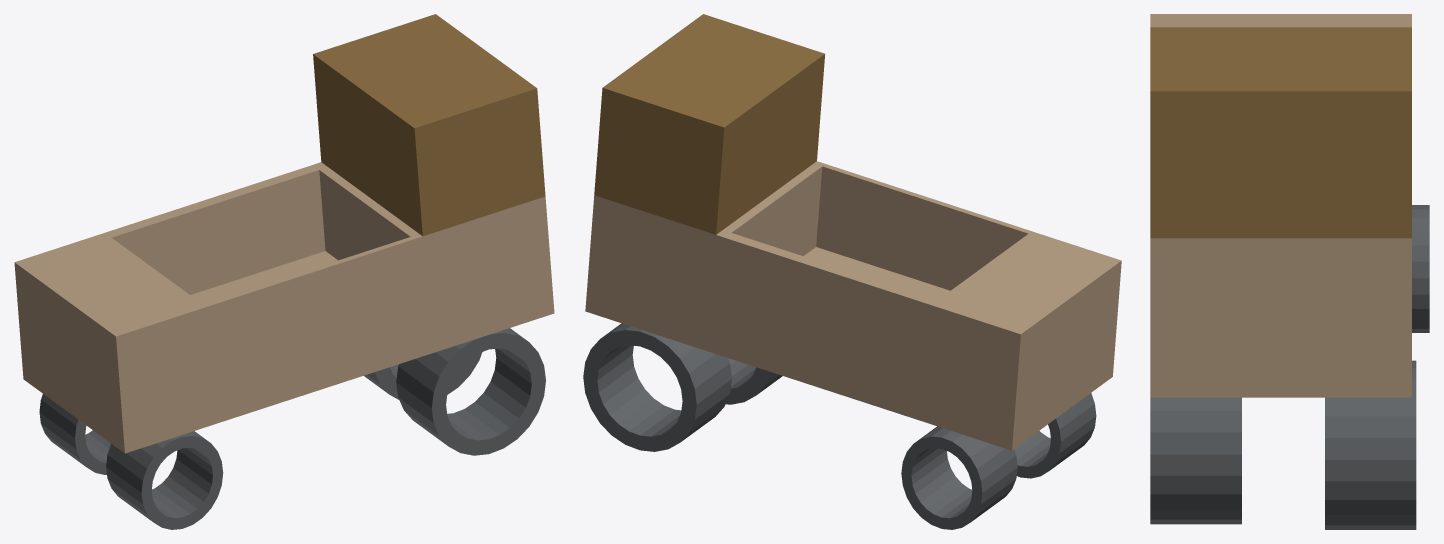
Rendered from Better Starters.glb.
3 renders of one model, left to right at view 1: azimuth 30°, elevation 25°; view 2: azimuth 150°, elevation 25°; view 3: azimuth 270°, elevation 25°, orthographic. The views are drawn at different scales.
Parts seen in each view (by area): view 1: Mesh_Mesh_head_geo.001_lambert2SG.001; view 2: Mesh_Mesh_head_geo.001_lambert2SG.001; view 3: Mesh_Mesh_head_geo.001_lambert2SG.001.
Boxes of the visible parts, left/top/right/bottom form: Mesh_Mesh_head_geo.001_lambert2SG.001: left=14, top=14, right=554, bottom=529; Mesh_Mesh_head_geo.001_lambert2SG.001: left=583, top=14, right=1121, bottom=529; Mesh_Mesh_head_geo.001_lambert2SG.001: left=1150, top=14, right=1429, bottom=529.
Bounding box in the file's own units: 49.91 × 38.47 × 21.35.
